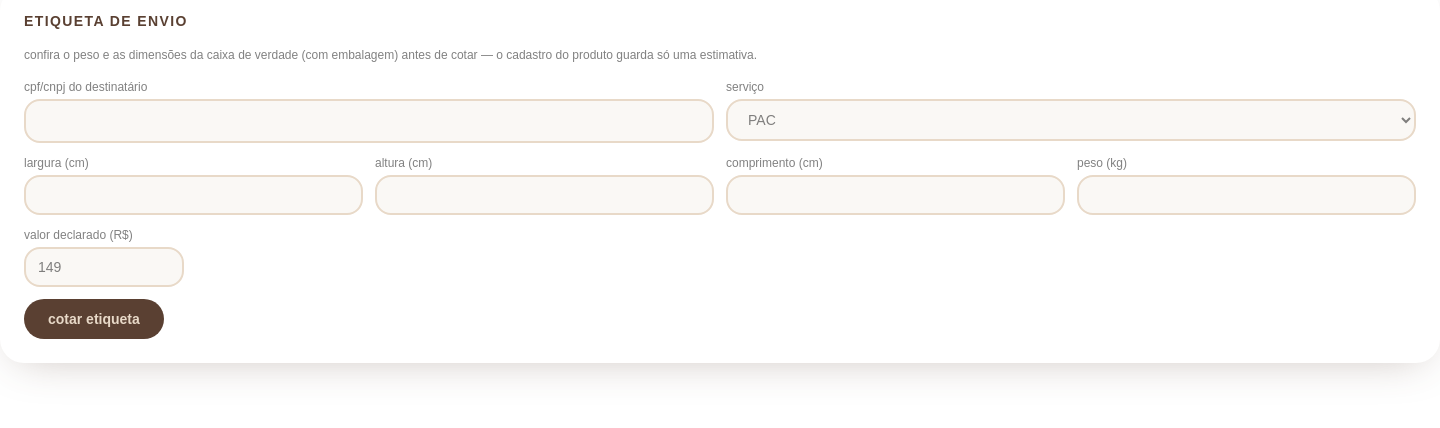
Test: ShippingLabelActions — sem etiqueta › mostra erro quando a cotação falha
Type "111.444.777-35" into the field labelled "cpf/cnpj do destinatário" at [369, 121], box left=24, top=99, right=714, bottom=143
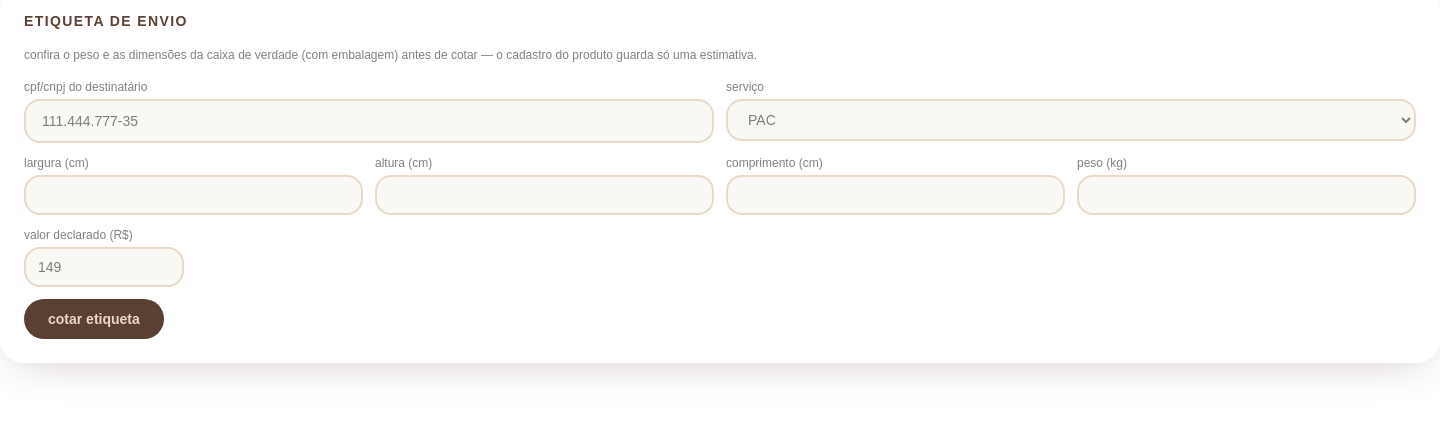
Type "20" into the number field labelled "largura (cm)" at [194, 195], box left=24, top=175, right=363, bottom=215
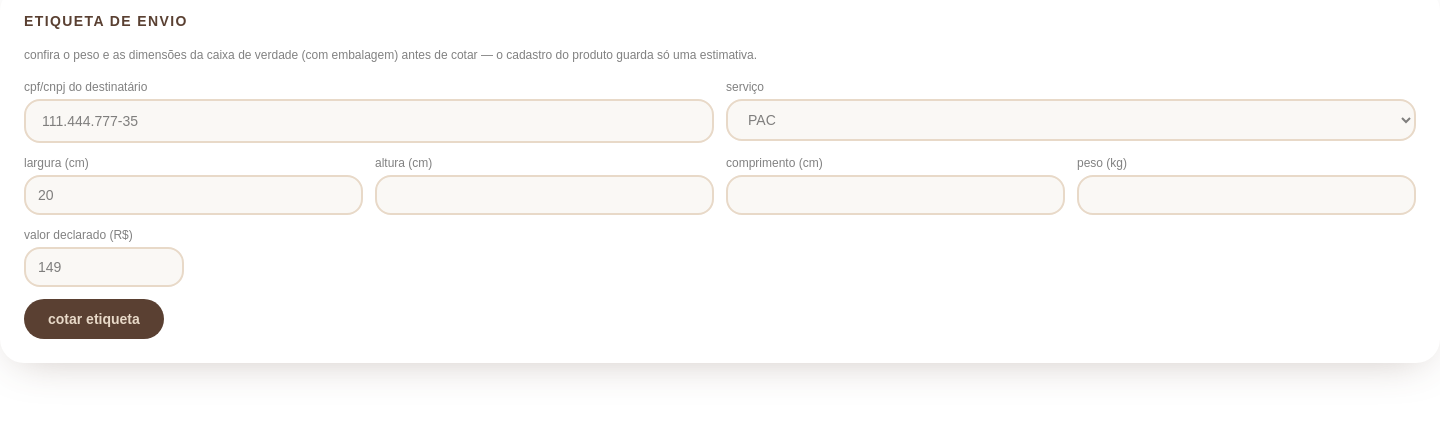
Type "15" into the number field labelled "altura (cm)" at [544, 195], box left=375, top=175, right=714, bottom=215
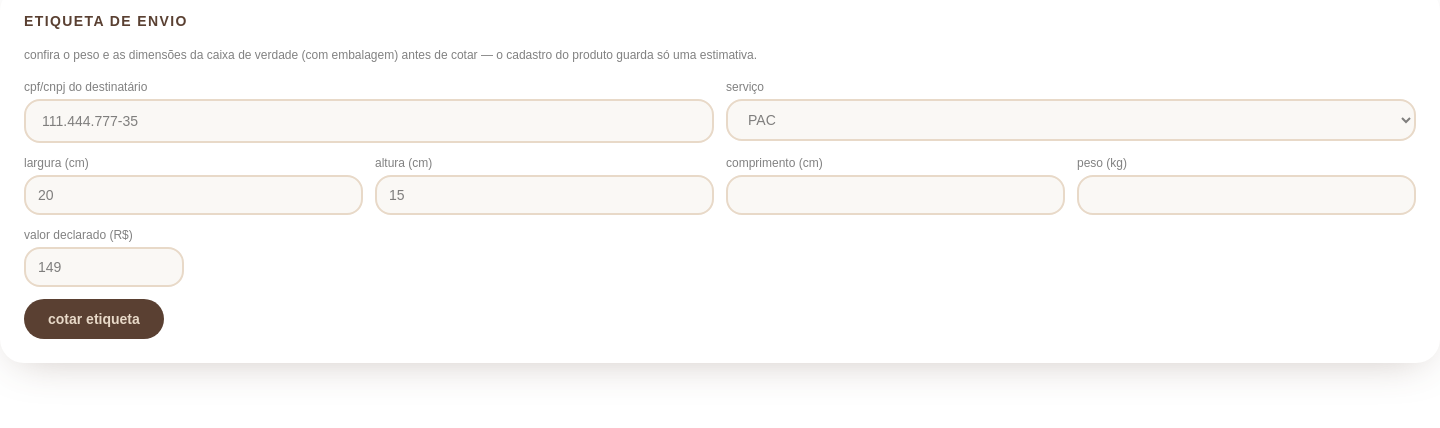
Type "20" into the number field labelled "comprimento (cm)" at [896, 195], box left=726, top=175, right=1065, bottom=215
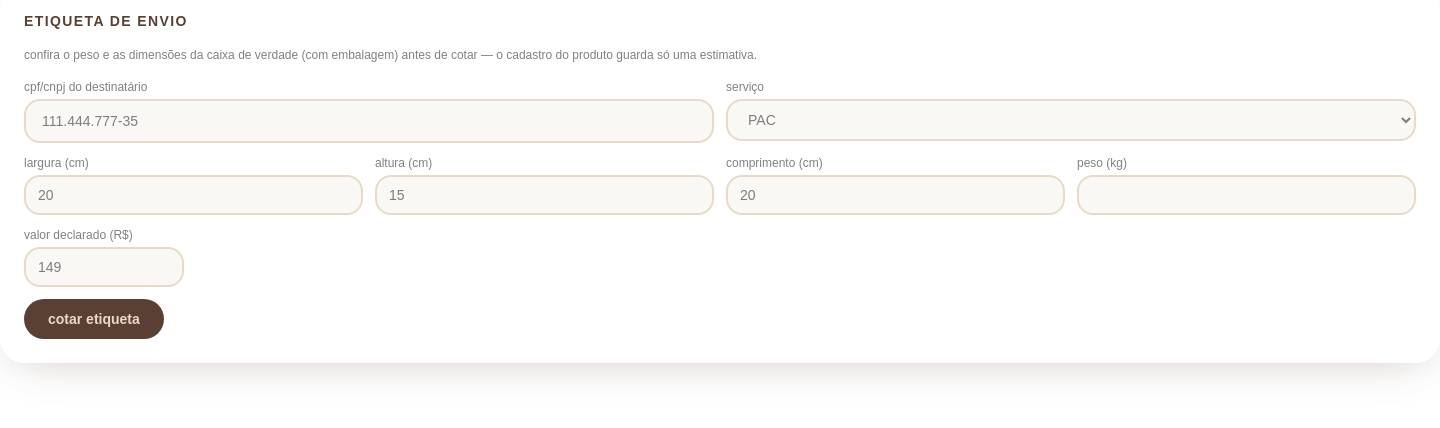
Type "1" into the number field labelled "peso (kg)" at [1246, 195], box left=1077, top=175, right=1416, bottom=215
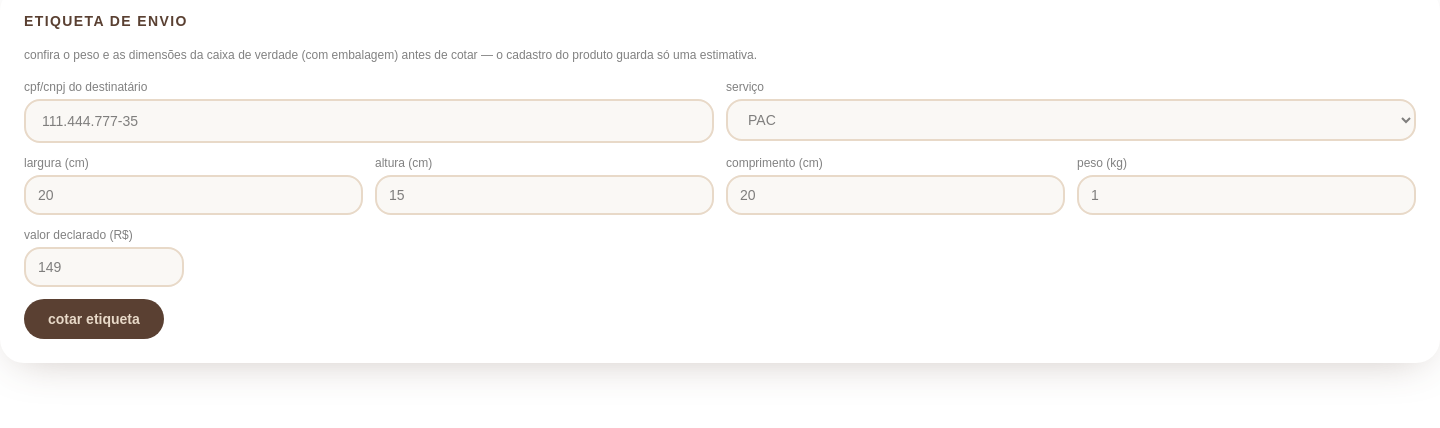
Click the button "cotar etiqueta" at [94, 319], box left=24, top=299, right=164, bottom=339
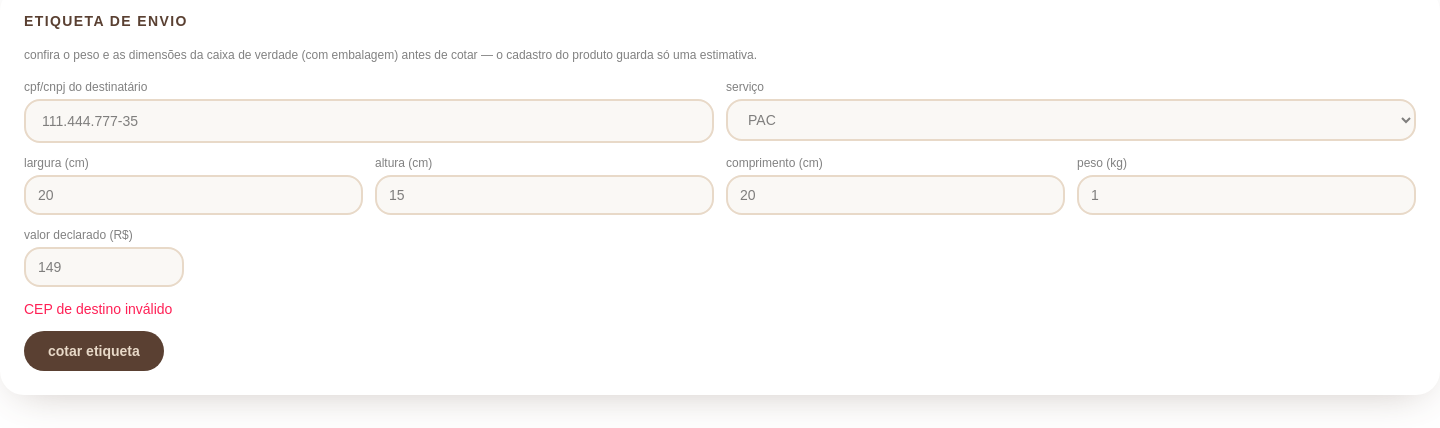
Expected: the text "CEP de destino inválido" is shown, left=24, top=301, right=172, bottom=317
